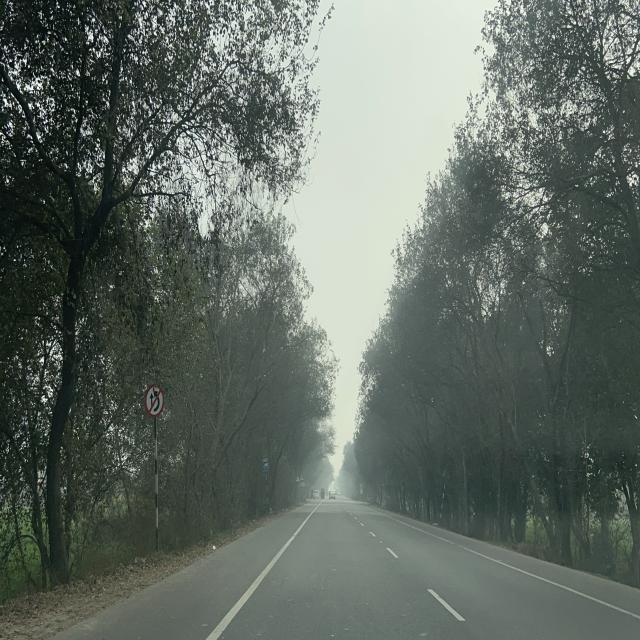OVERTAKING_PROHIBITED: (144, 383, 164, 418)
